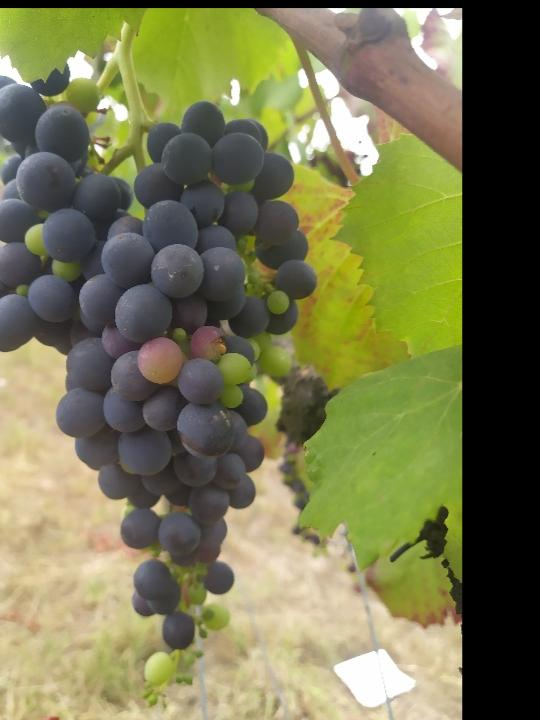grape: (0, 59, 317, 715)
